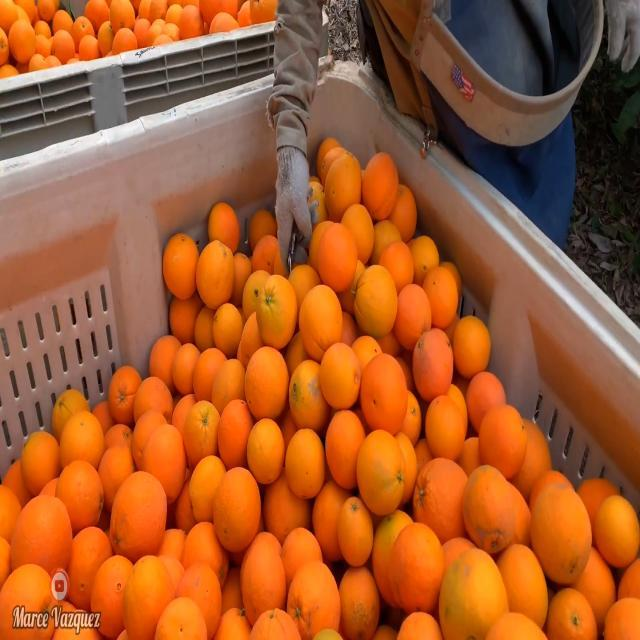Jeruk Sudah Matang: (106, 473, 170, 563), (212, 466, 262, 555), (474, 400, 528, 478), (591, 493, 640, 570), (282, 424, 327, 504), (244, 346, 288, 422), (319, 344, 362, 415), (424, 394, 467, 461), (160, 229, 200, 300), (336, 494, 374, 566)
